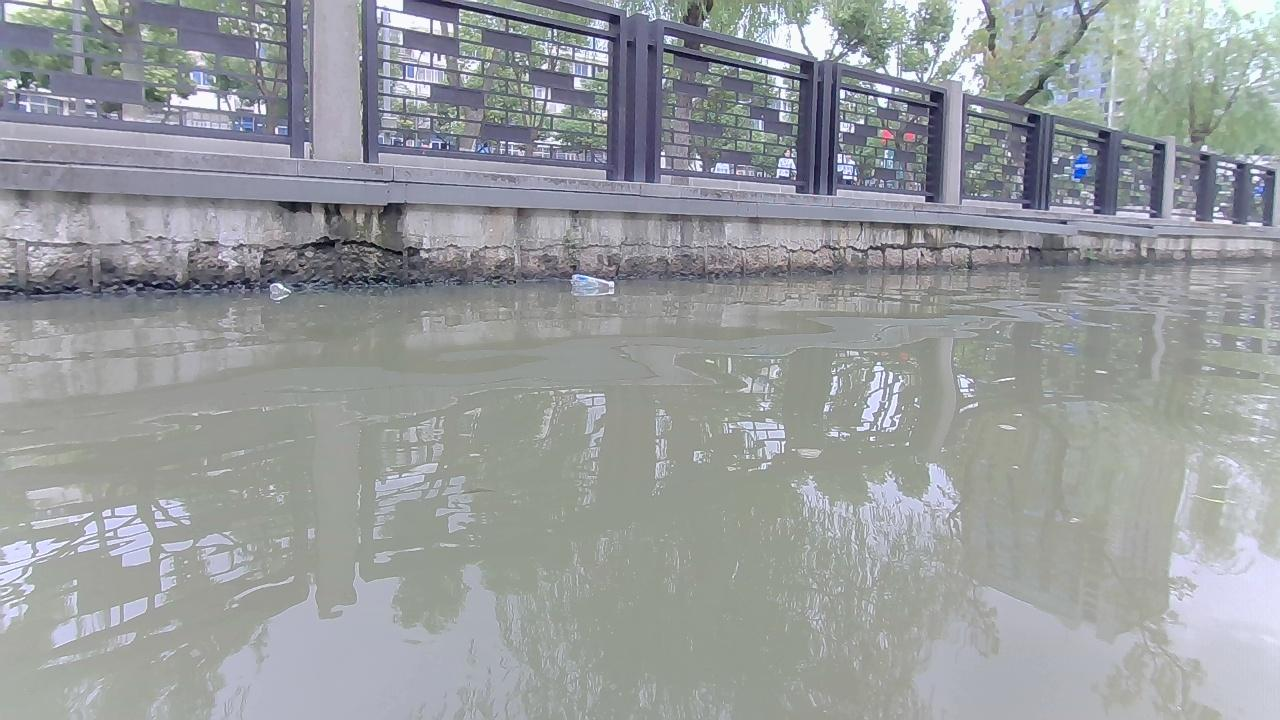bottle: (569, 273, 614, 288), (268, 282, 292, 294)
